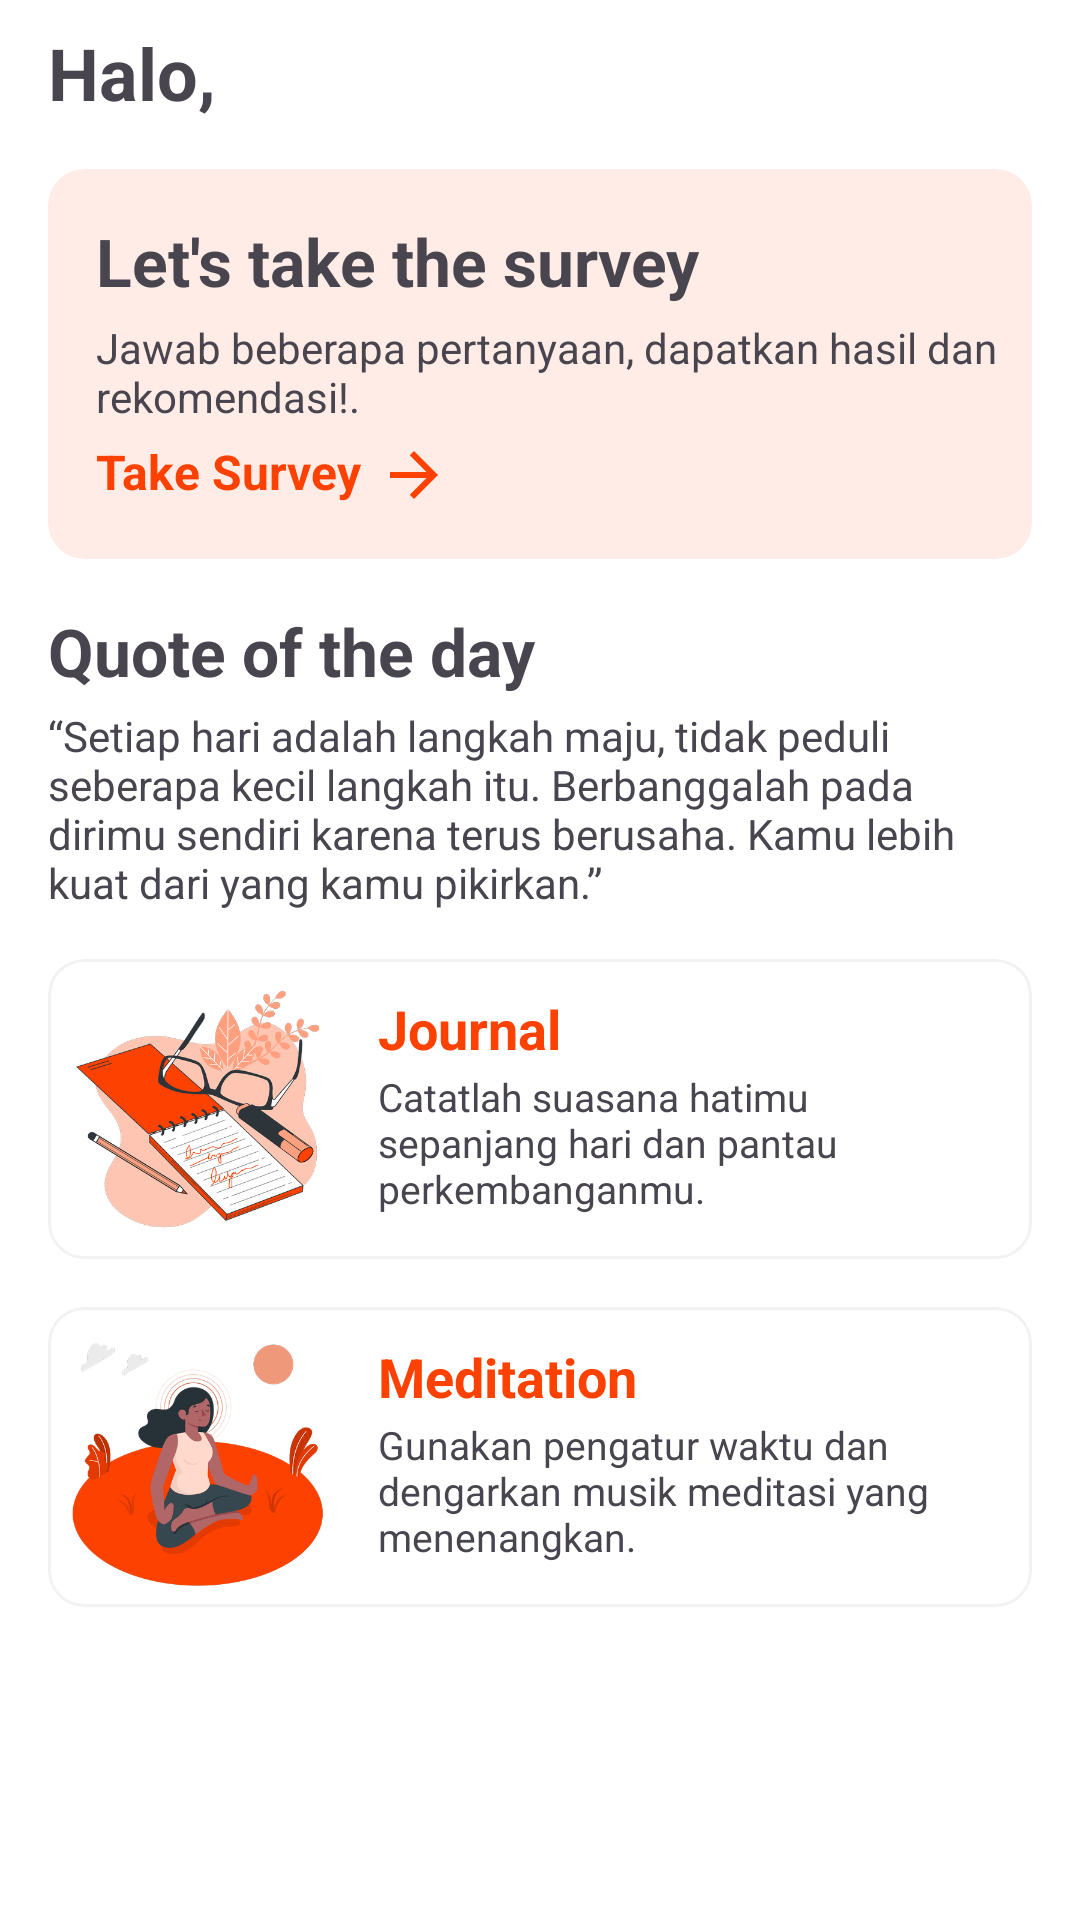

Icon click points for this 1080px x 1920px phone screenshot, format [x,y]:
arrow forward: [414,475]
